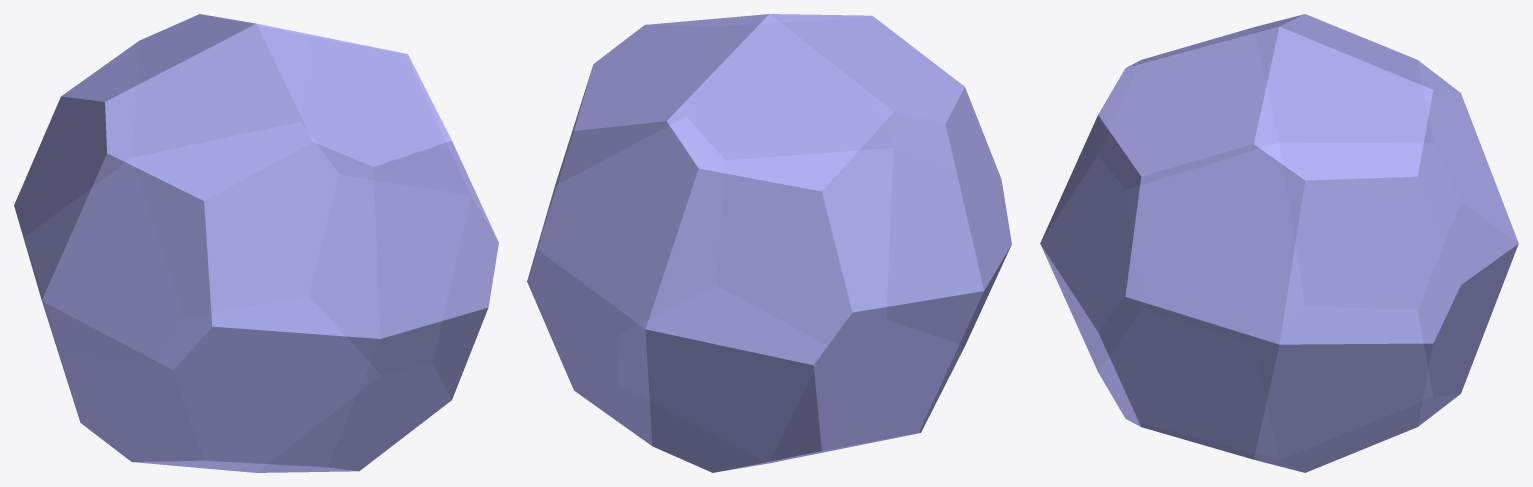
Rendered from BiscribedPentagonalIcositetrahedron.obj.
3 renders of one model, left to right at view 1: azimuth 30°, elevation 25°; view 2: azimuth 150°, elevation 25°; view 3: azimuth 270°, elevation 25°, orthographic. The views are drawn at different scales.
Size of the model in its own units: 2 by 2 by 2.
